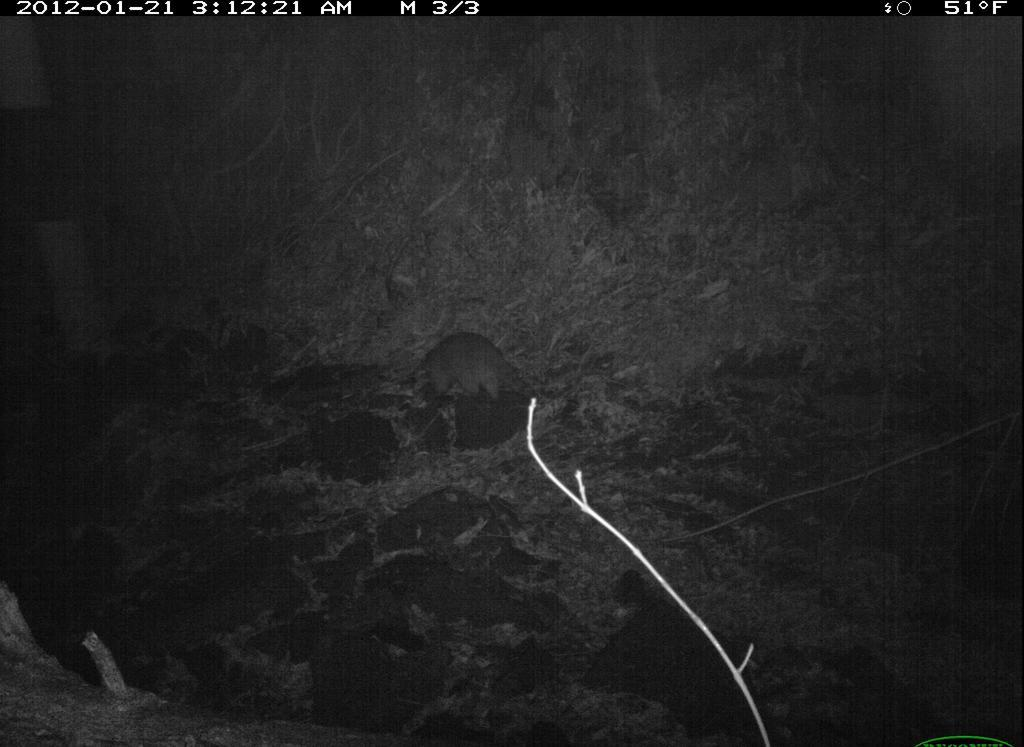raccoon: (397, 325, 555, 418)
